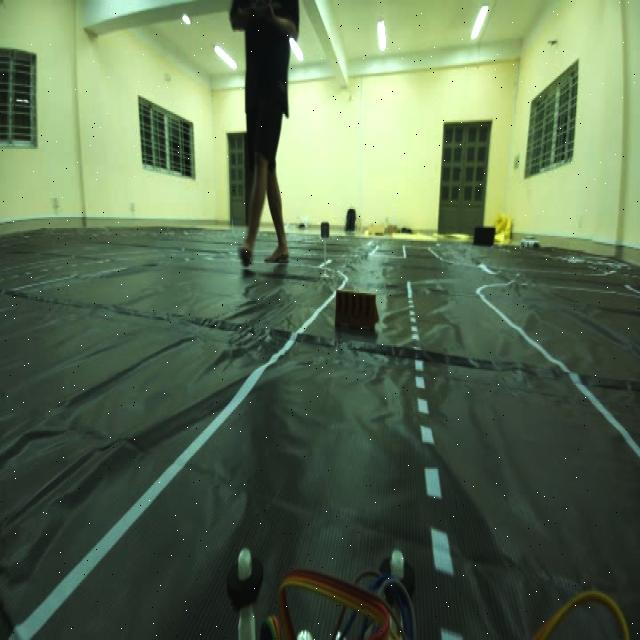roadblock: (328, 281, 382, 346)
